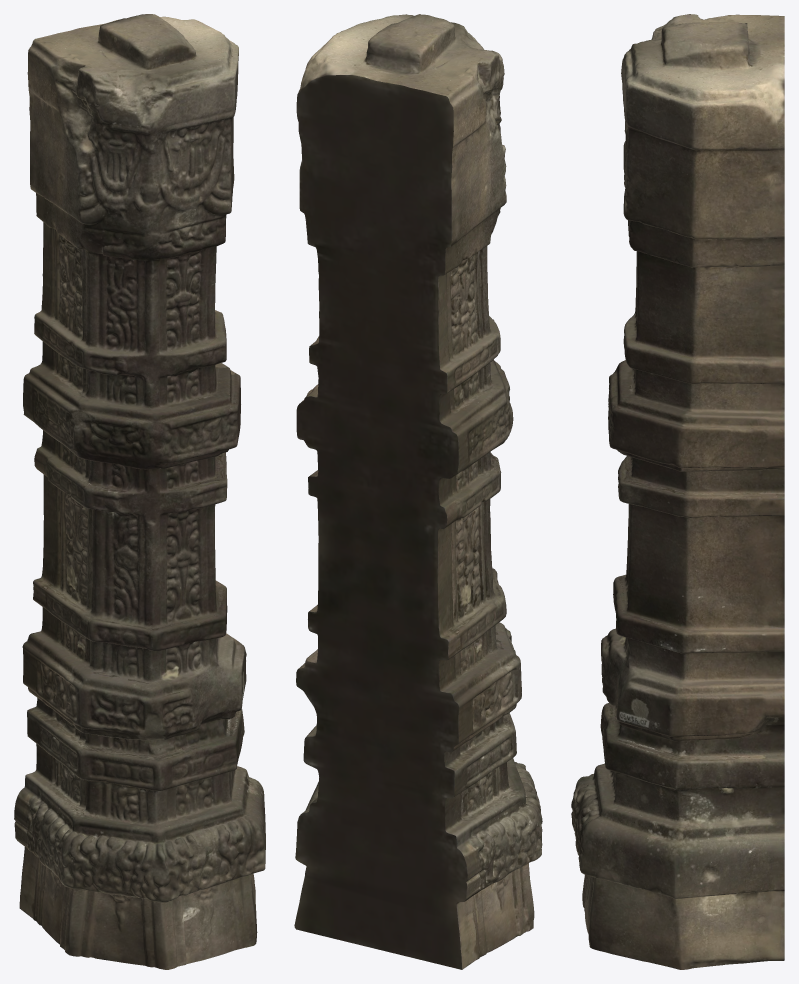
The model's file is MysonMuseum_trucuaF1_final.glb.
3 renders of one model, left to right at view 1: azimuth 30°, elevation 25°; view 2: azimuth 150°, elevation 25°; view 3: azimuth 270°, elevation 25°, orthographic.
Size of the model in its own units: 0.4897 by 1.98 by 0.4303.
1 material, 1 textured.
